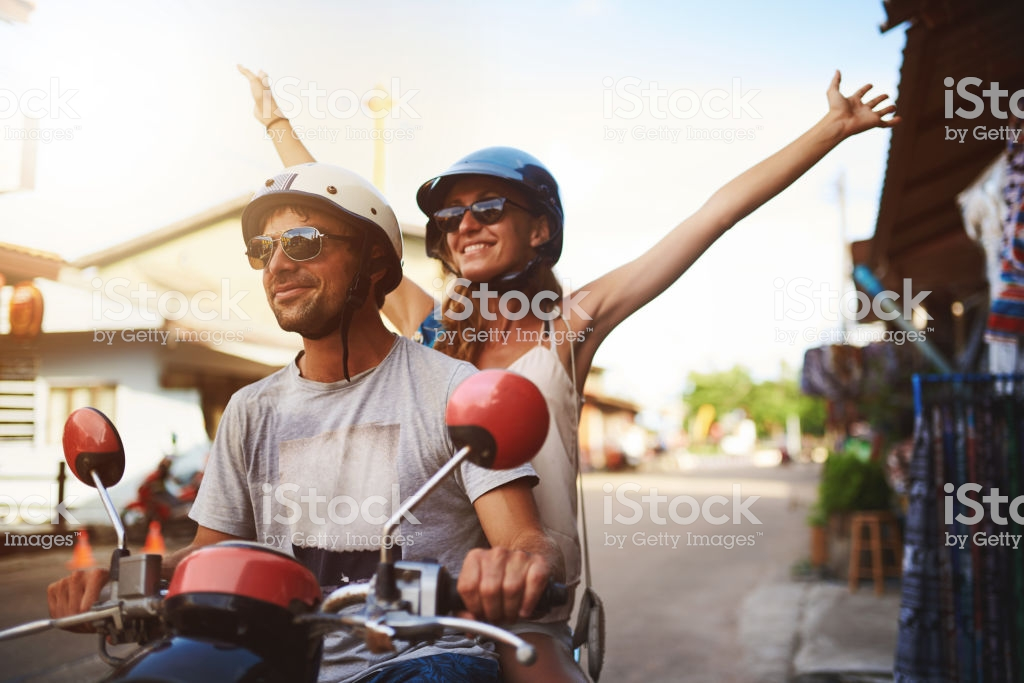helmet: (251, 131, 400, 265), (421, 146, 572, 250)
